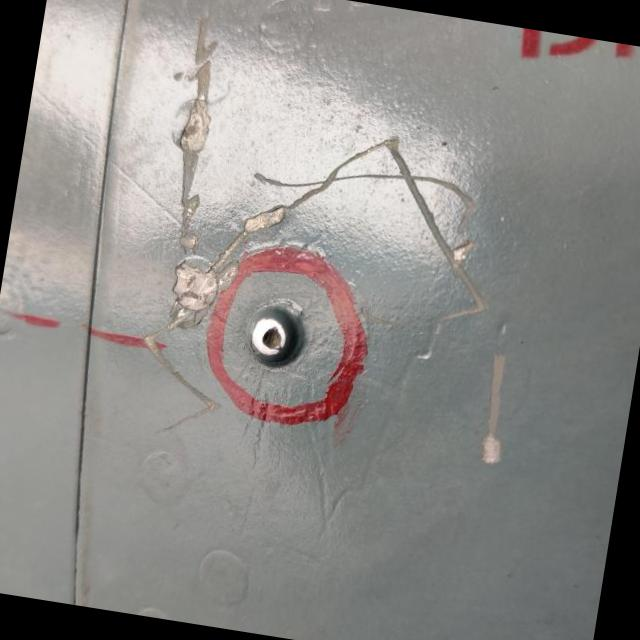Scratch: (246, 139, 485, 361), (147, 267, 231, 408), (173, 14, 219, 268), (475, 344, 517, 473)
